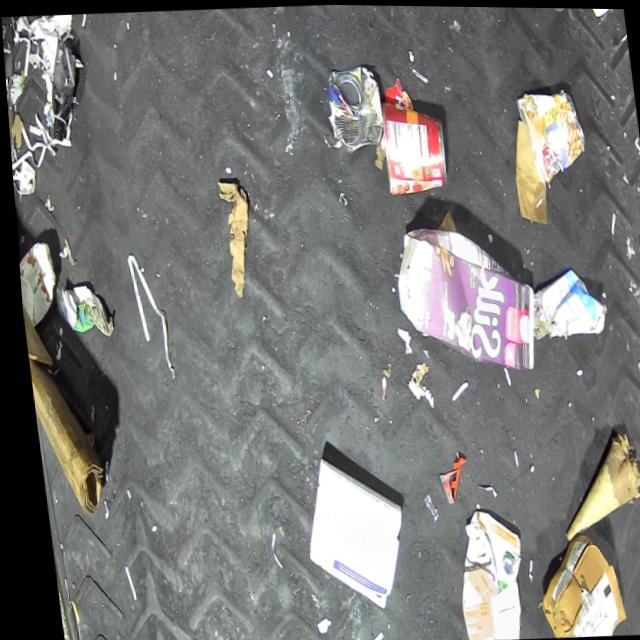can: (375, 98, 449, 198), (513, 87, 588, 183), (320, 62, 386, 155), (14, 236, 55, 328)
non_white_jug: (386, 216, 537, 375), (442, 509, 523, 640)
